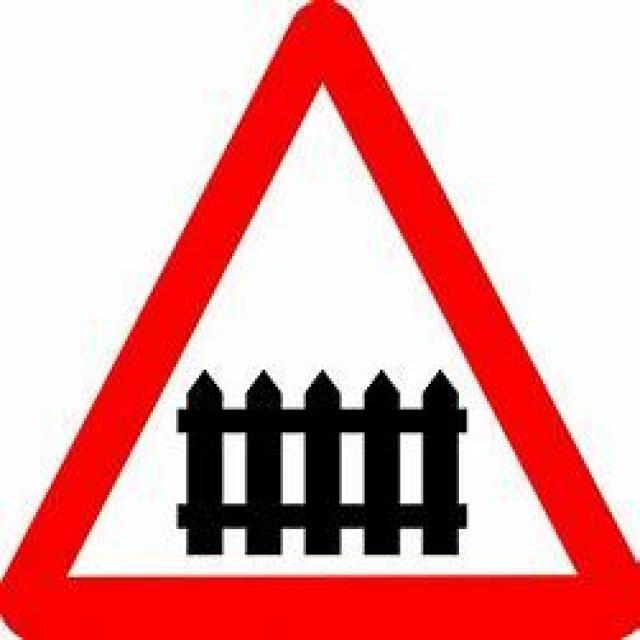guarded level crossing: (19, 30, 621, 619)
